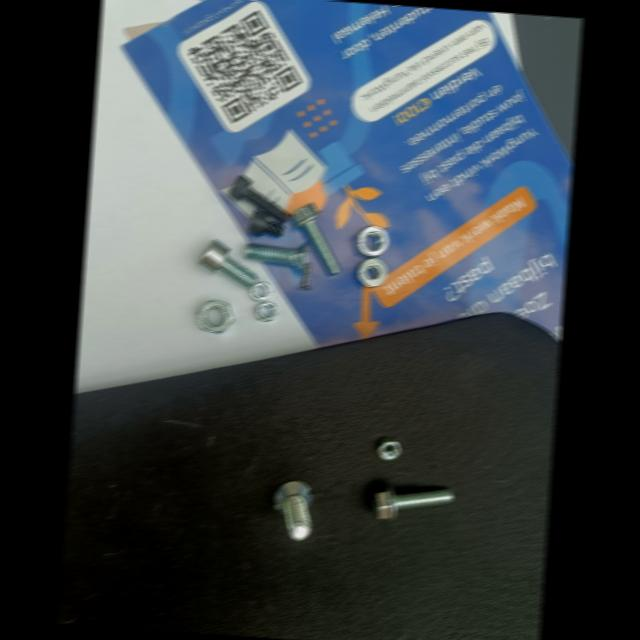bolt: (289, 202, 340, 275), (227, 174, 290, 224), (197, 239, 257, 290), (371, 486, 453, 519), (273, 480, 312, 540), (243, 240, 309, 275), (247, 208, 284, 237), (297, 261, 310, 290)
nuts: (352, 224, 388, 257), (196, 299, 232, 332), (356, 257, 387, 287), (249, 280, 272, 305), (375, 437, 400, 460), (254, 301, 277, 321)
